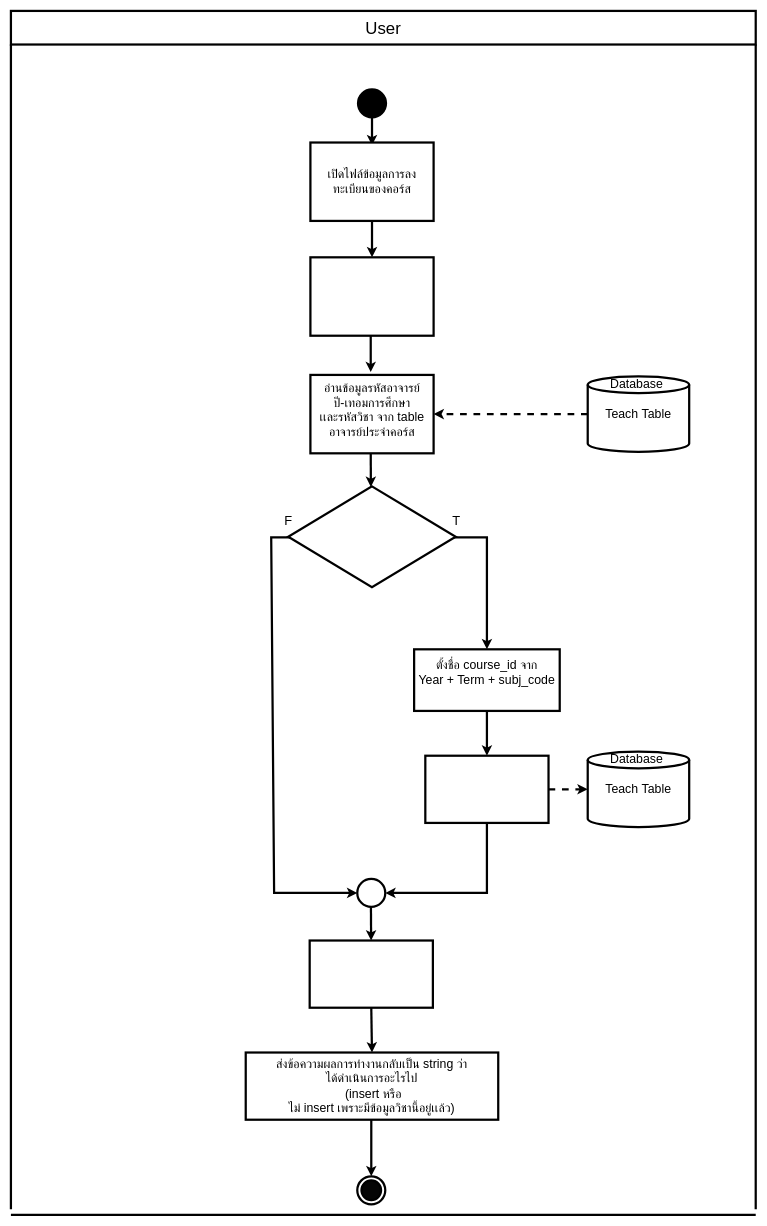
This 767x1226 diagram has some shape labels left out. The centre of each missing label's shape, as x and y in pixels:
"insert ข้อมูล อาจารย์ ปี-เทอมการศึกษา เเละรหัสวิชาเข้าฐานข้อมูล" belongs at point (486, 789).
"บันทึก activity ที่ทำเข้า log file" belongs at point (371, 974).
"สกัดข้อมูลรหัส อาจารย์ ปี-เทอมการศึกษา เเละรหัสวิชา จากส่วนหัวของไฟล์" belongs at point (371, 296).
"ไม่มี รหัส อาจารย์ ปี-เทอมการศึกษา เเละรหัสวิชา ในฐานข้อมูล" belongs at point (372, 536).
